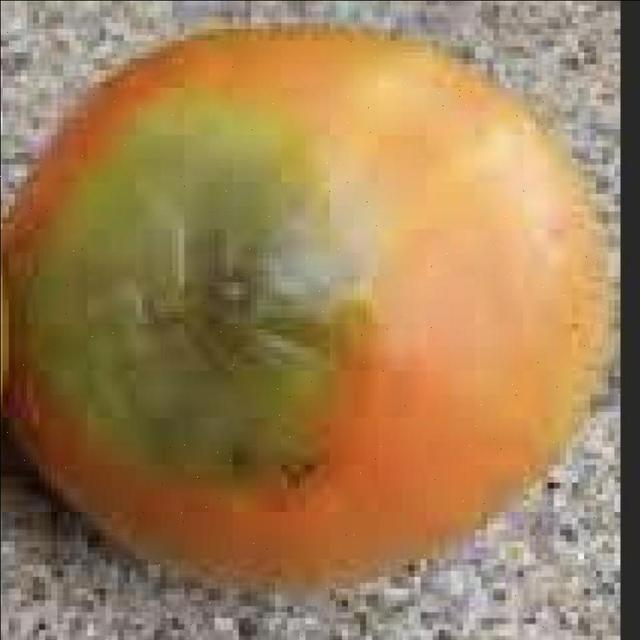Sunscald Fruit: (16, 46, 332, 333)
